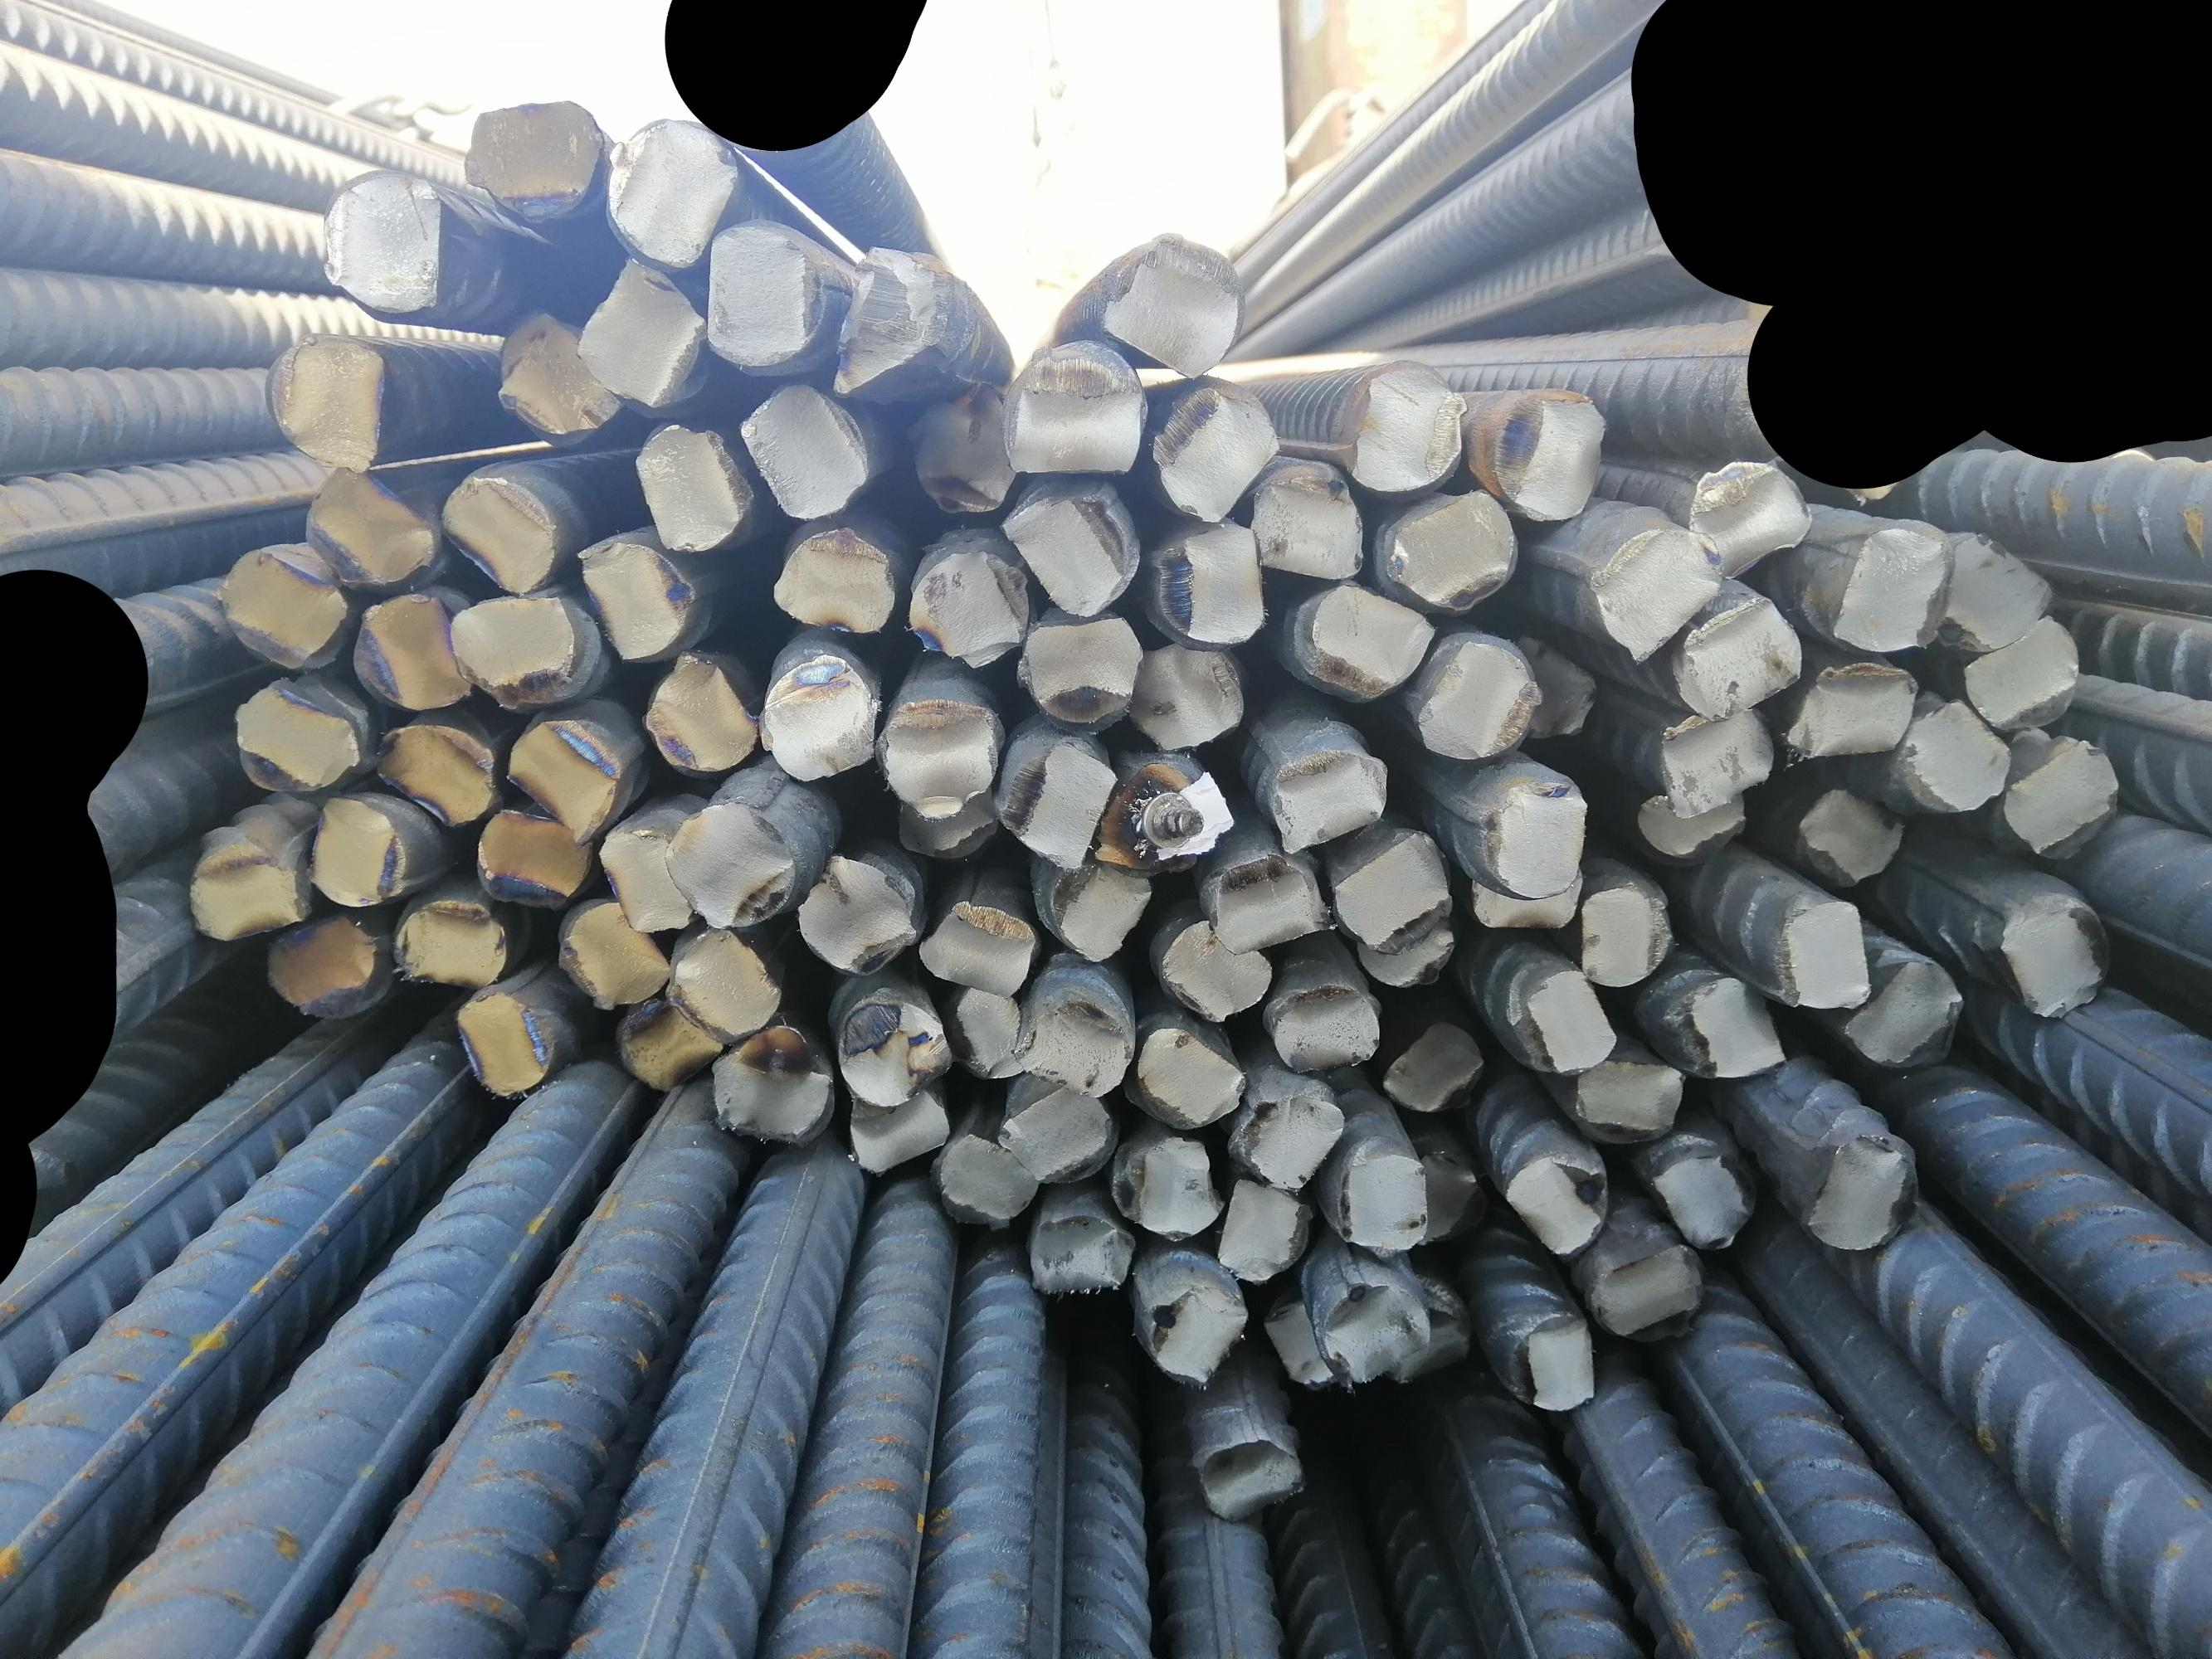bar: (1095, 227, 1245, 382), (573, 253, 706, 411), (995, 342, 1147, 479), (607, 113, 739, 270), (317, 164, 450, 319), (1581, 519, 1722, 662), (1147, 378, 1286, 521), (460, 89, 603, 225), (736, 375, 870, 519), (997, 483, 1138, 619), (1665, 586, 1806, 720), (1820, 521, 1958, 657), (293, 460, 438, 589), (662, 802, 802, 934), (830, 244, 950, 397), (899, 537, 1032, 671), (994, 739, 1123, 877), (1382, 484, 1520, 613), (263, 329, 387, 472), (1933, 518, 2057, 657), (1490, 382, 1611, 525), (1340, 362, 1471, 493), (214, 542, 350, 667), (1999, 734, 2123, 871), (354, 584, 479, 718), (1091, 751, 1224, 877), (906, 378, 1023, 519), (495, 305, 619, 437), (755, 652, 879, 784), (504, 711, 628, 843), (230, 674, 366, 795), (708, 220, 821, 362), (708, 1021, 837, 1147), (1686, 451, 1818, 573), (1299, 579, 1435, 697), (831, 985, 957, 1112), (1412, 634, 1537, 762), (875, 690, 999, 819), (1792, 1131, 1923, 1253), (631, 418, 750, 552), (795, 847, 917, 976), (572, 532, 692, 662), (1999, 885, 2114, 1021), (1844, 948, 1968, 1073), (1147, 516, 1265, 647), (1330, 823, 1450, 950), (448, 594, 579, 711), (1020, 608, 1143, 730), (439, 471, 560, 596), (1961, 613, 2086, 732), (767, 525, 896, 638), (1480, 769, 1590, 901), (662, 927, 786, 1044), (185, 836, 319, 943), (451, 983, 570, 1103), (1248, 462, 1367, 582), (1898, 694, 2017, 812), (1130, 634, 1246, 755), (640, 652, 753, 775), (554, 890, 668, 1014), (1262, 741, 1393, 847), (1008, 988, 1131, 1100), (1107, 1126, 1224, 1243), (1654, 704, 1773, 819), (1788, 655, 1917, 760), (368, 720, 499, 823), (1670, 972, 1788, 1086), (997, 1072, 1116, 1183), (1130, 1018, 1246, 1129), (1320, 1272, 1431, 1389), (261, 906, 380, 1016), (1504, 960, 1616, 1075), (1647, 1134, 1757, 1251), (469, 805, 591, 910), (1042, 850, 1152, 964), (1161, 913, 1272, 1023), (919, 892, 1037, 995), (1206, 850, 1325, 953), (607, 985, 718, 1093), (589, 819, 694, 934), (305, 795, 408, 911), (1194, 1425, 1307, 1530), (934, 1119, 1041, 1229), (1771, 901, 1876, 1012), (1588, 1243, 1705, 1342), (1265, 979, 1382, 1079), (1795, 788, 1912, 887), (1384, 1263, 1476, 1389), (1332, 1141, 1433, 1255), (387, 894, 507, 988), (1571, 884, 1679, 988), (1496, 1302, 1598, 1412), (842, 1072, 950, 1175), (1143, 1279, 1246, 1387), (1236, 1091, 1346, 1192), (887, 779, 1006, 871), (1567, 1054, 1686, 1147), (1501, 1155, 1607, 1258), (1210, 1175, 1307, 1279), (1379, 1014, 1485, 1110), (948, 976, 1037, 1089), (1635, 784, 1752, 870), (1034, 1204, 1133, 1302), (1466, 856, 1586, 936), (1351, 906, 1457, 992), (1518, 638, 1600, 748), (1403, 1143, 1483, 1253), (1259, 1295, 1339, 1391)
